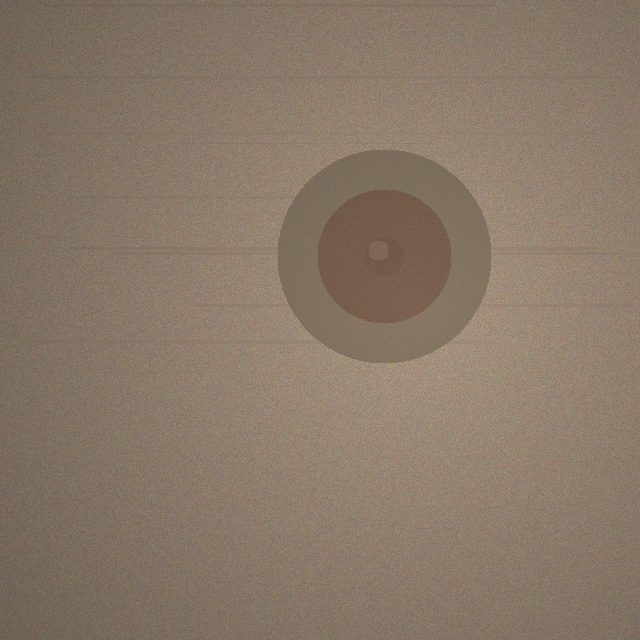good: (277, 149, 491, 363)
